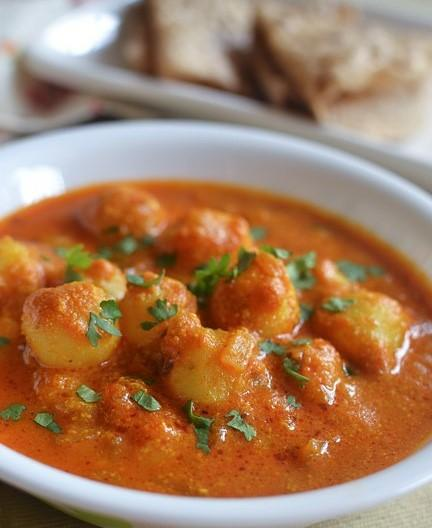DumAloo: (2, 176, 431, 500)
